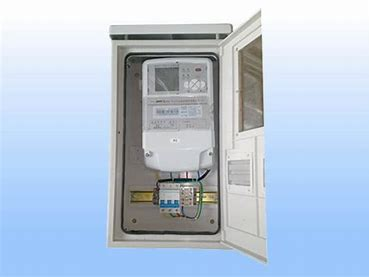pointer: (142, 57, 212, 171)
